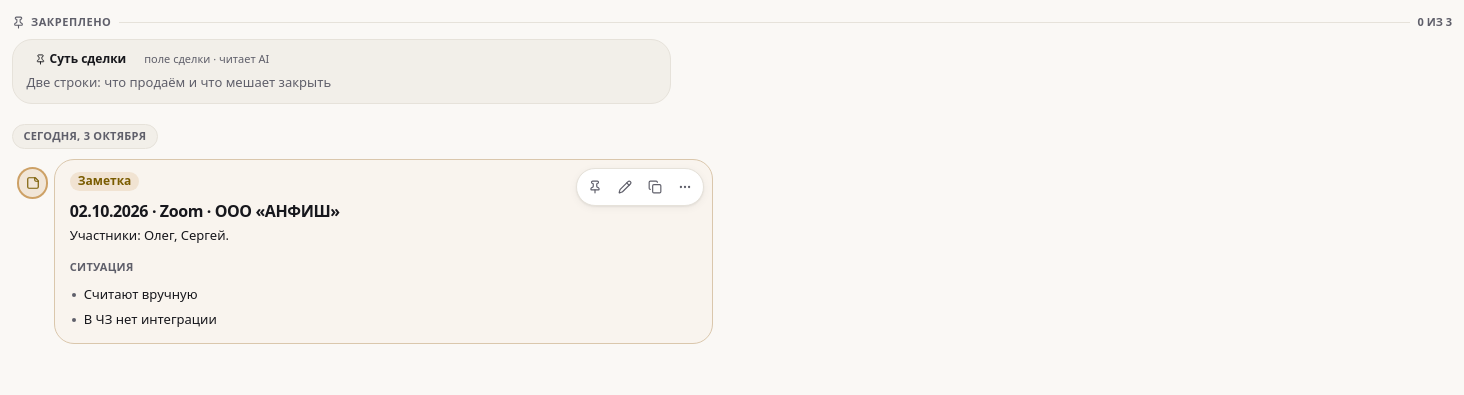
Test: DealActivityFeed: суть сделки › пусто: строка-приглашение открывает правку
Click the button "Две строки: что продаём и что мешает закрыть" at x=179, y=83, box x1=27 y1=73 x2=331 y2=93
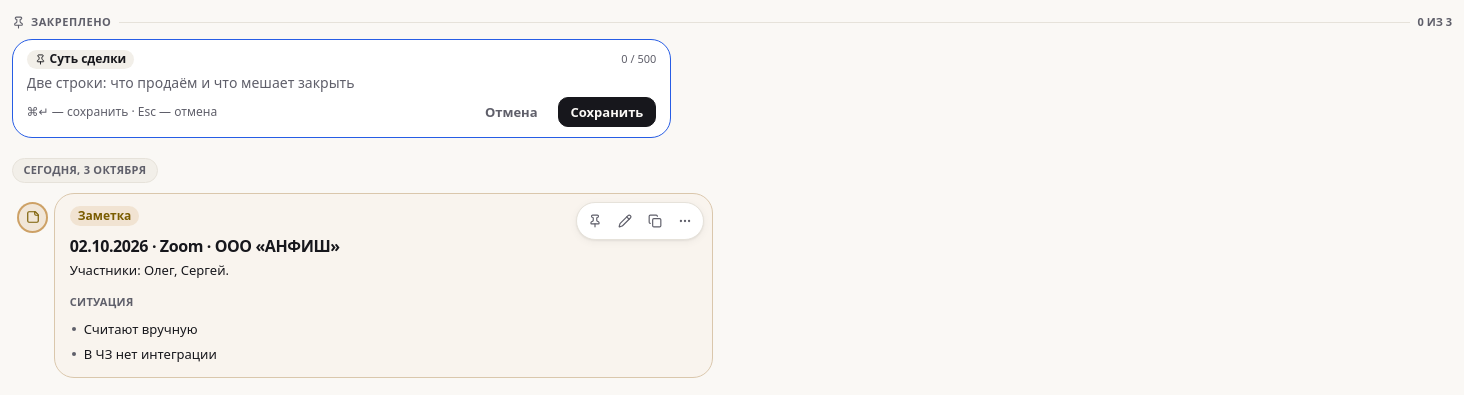
Expected: the text box named "Суть сделки" is shown, x1=27 y1=73 x2=656 y2=93
